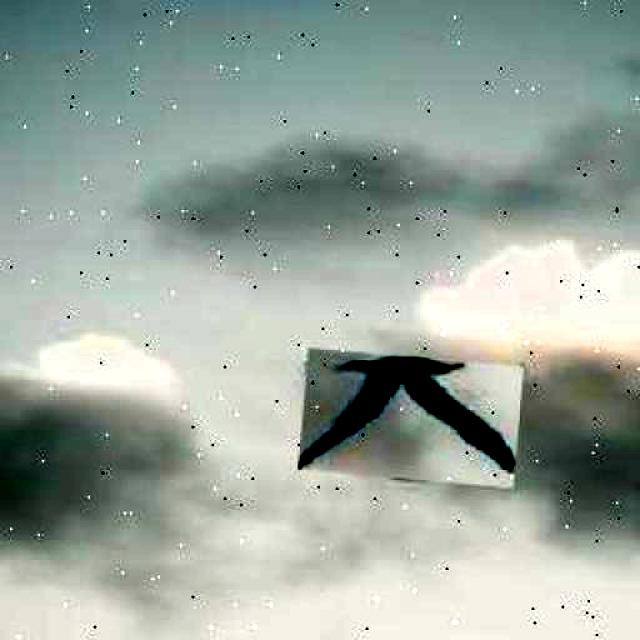airplane: (298, 348, 524, 488)
